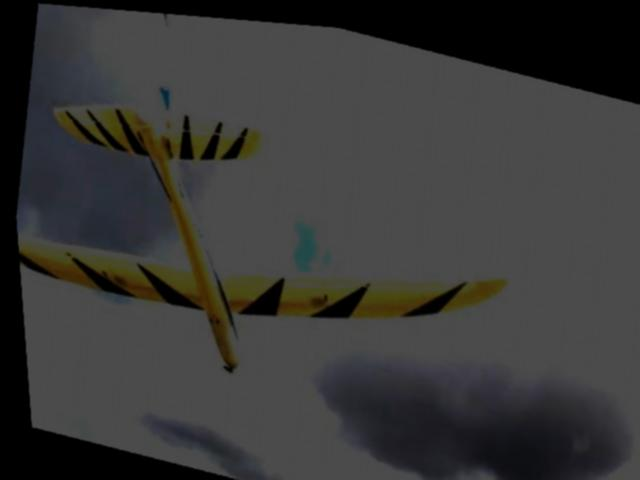iha: (0, 0, 550, 438)
